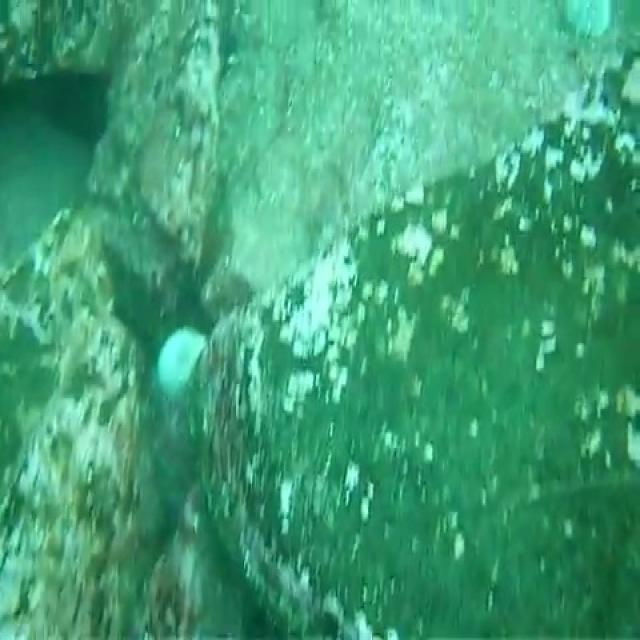Deniz Kestanesi: (148, 312, 208, 395)
